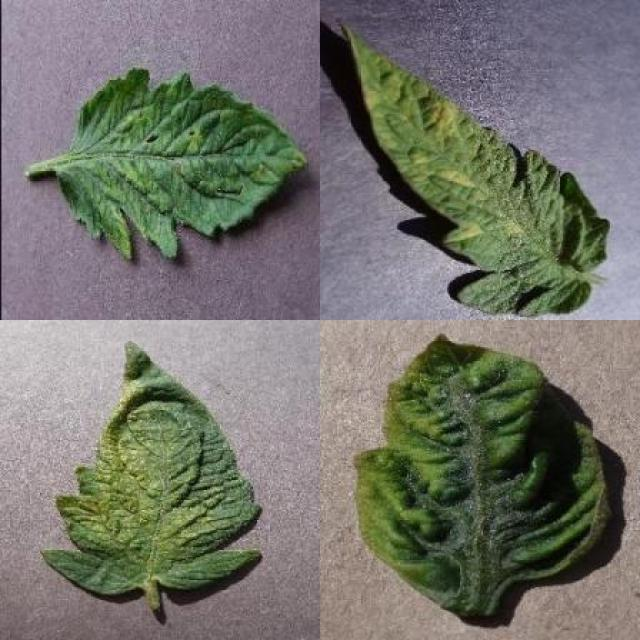Leaf Mold: (344, 16, 610, 317)
Mosaic Virus: (57, 70, 310, 266)
Spider Mites: (40, 339, 263, 595)
Yellow Leaf Curl Virus: (352, 333, 608, 620)
